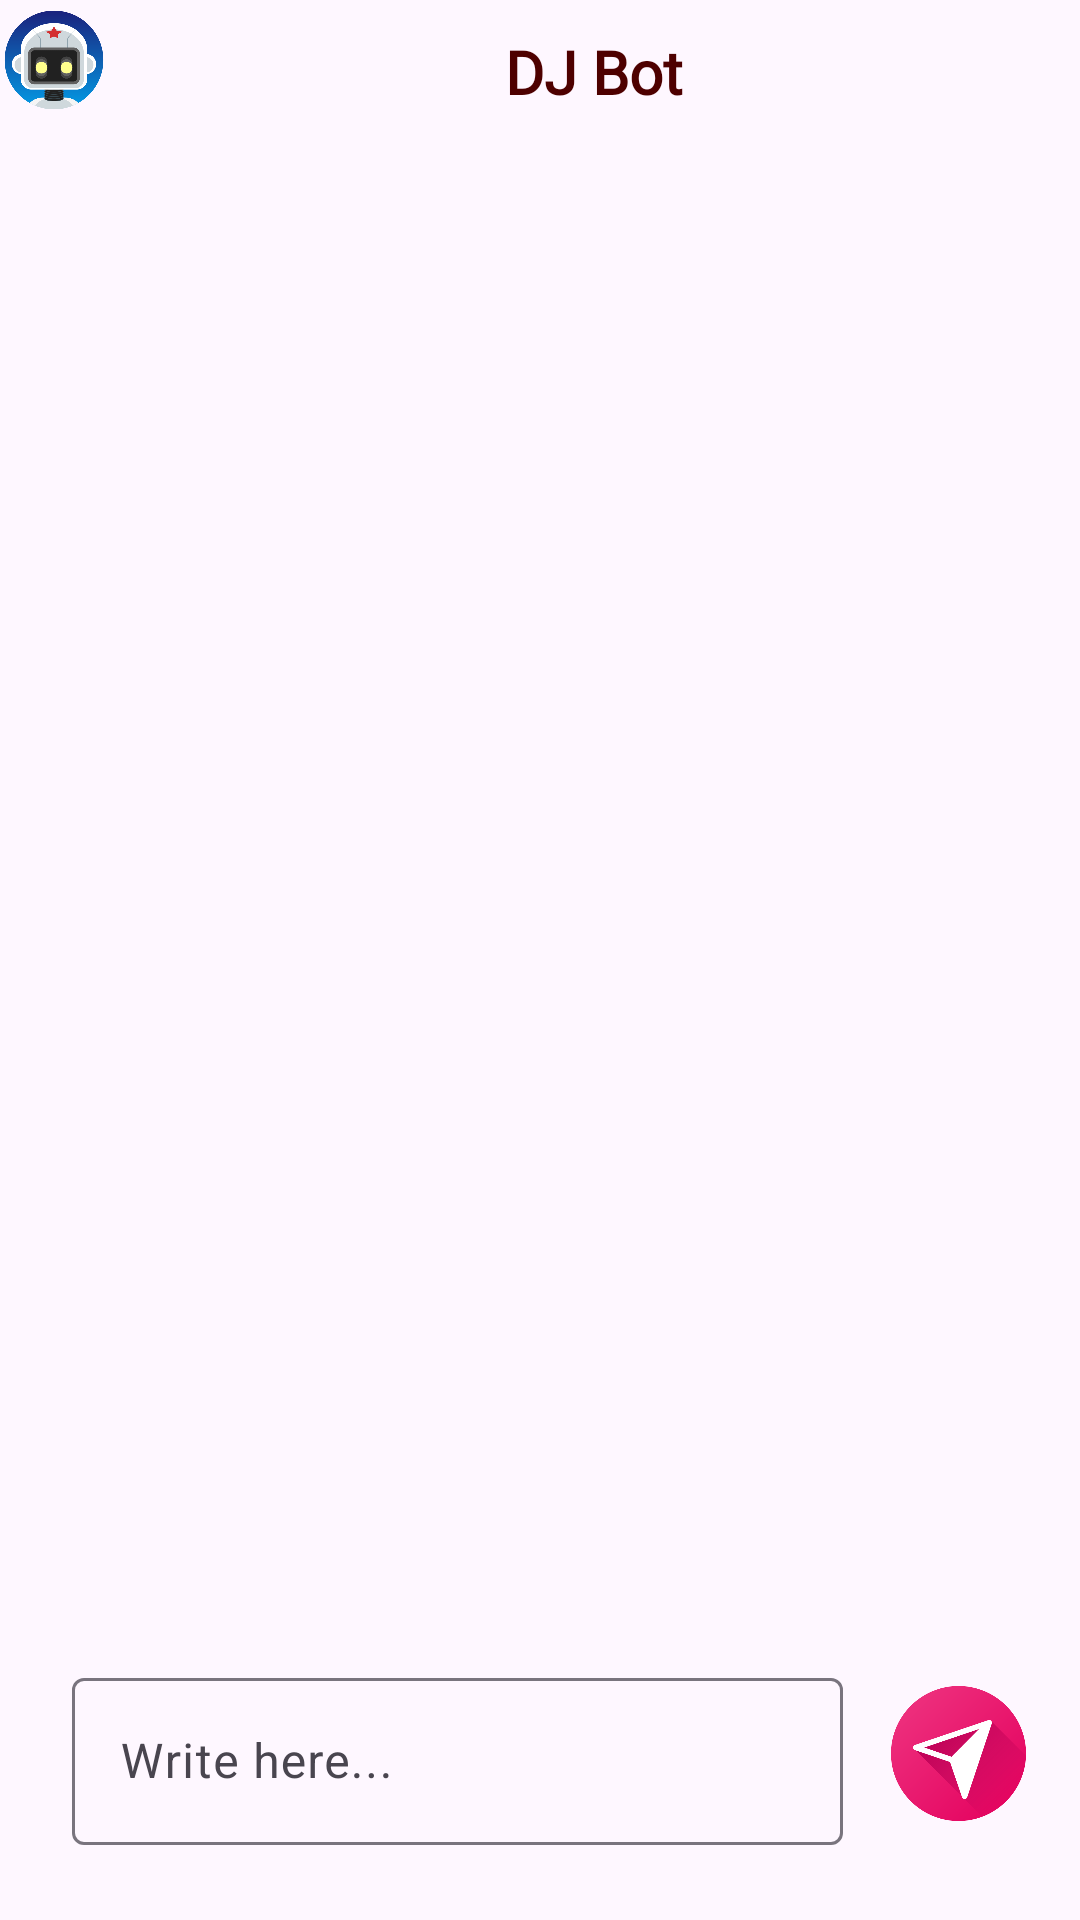

Where to tap for icons on this 1080 × 1920 app screen, as point (x, y):
sendnew: point (958, 1753)
